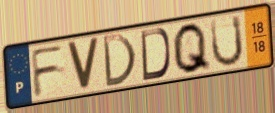D: (100, 32, 138, 89), (139, 26, 173, 83)
F: (29, 43, 66, 100)
Q: (171, 21, 213, 77)
U: (208, 13, 245, 69)
V: (64, 37, 101, 92)
